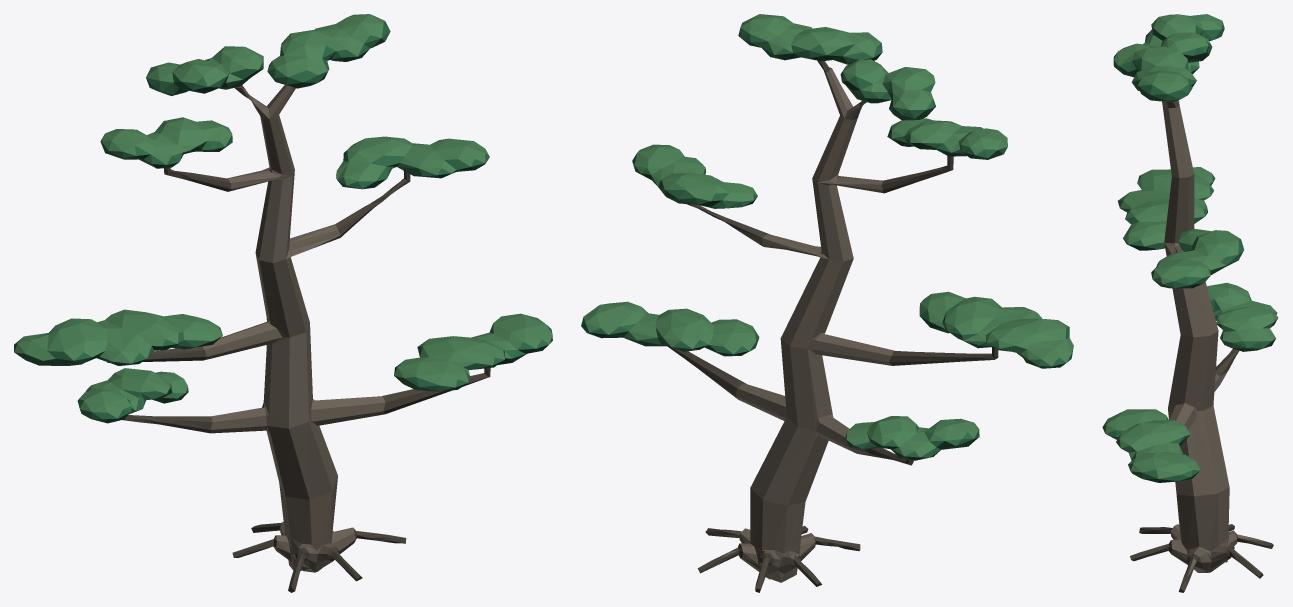
File: ancient-pine-5566-lod1.glb
3 views of the same model, side by side, from view 1: azimuth 30°, elevation 25°; view 2: azimuth 150°, elevation 25°; view 3: azimuth 270°, elevation 25° (orthographic). The views are drawn at different scales.
Parts seen in each view (by area): view 1: n12.005, n8.005, n11.005, n9.005, n10.005; view 2: n12.005, n8.005, n11.005, n9.005, n10.005; view 3: n12.005, n8.005, n11.005, n9.005, n10.005.
Boxes of the visible parts, bbox=[...] form: n12.005: bbox=[14, 14, 552, 418]; n8.005: bbox=[202, 85, 385, 572]; n11.005: bbox=[14, 21, 552, 419]; n9.005: bbox=[107, 85, 490, 592]; n10.005: bbox=[26, 38, 548, 423]; n12.005: bbox=[583, 14, 1073, 457]; n8.005: bbox=[721, 68, 894, 582]; n11.005: bbox=[581, 28, 1073, 457]; n9.005: bbox=[667, 60, 998, 592]; n10.005: bbox=[582, 38, 1065, 460]; n12.005: bbox=[1103, 14, 1278, 478]; n8.005: bbox=[1162, 100, 1263, 576]; n11.005: bbox=[1102, 21, 1276, 481]; n9.005: bbox=[1130, 348, 1273, 592]; n10.005: bbox=[1106, 31, 1277, 482].
Bounding box in the file's own units: 5.24 × 5.43 × 1.7.
